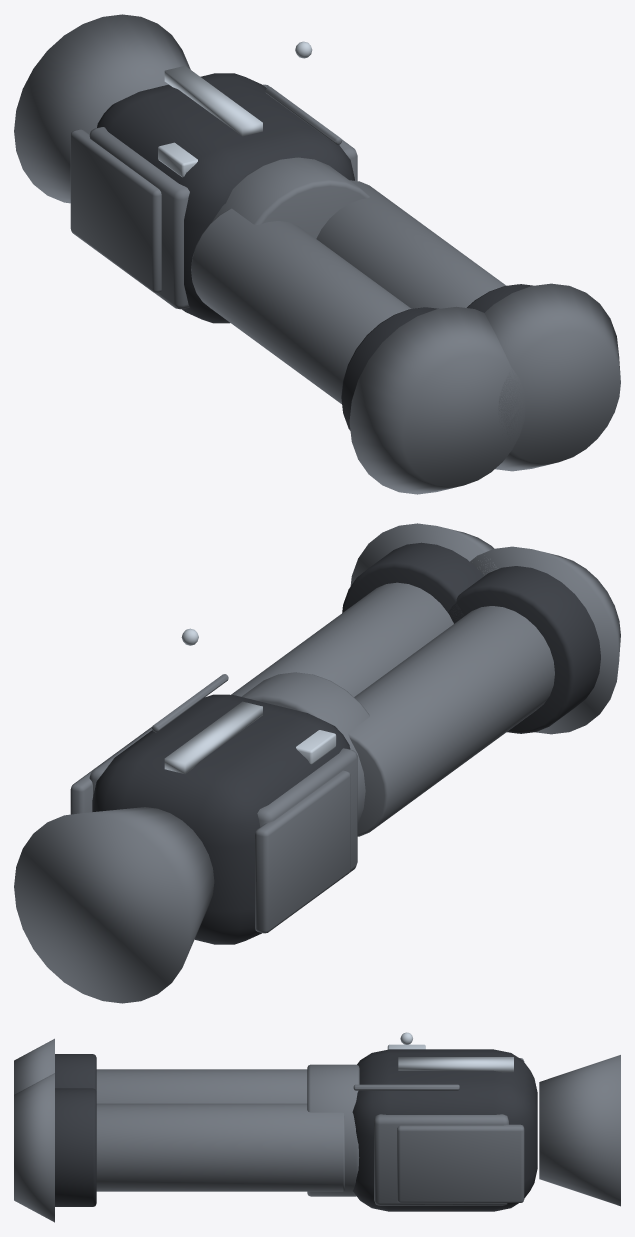
Rendered from weapon_drone_fire_salvo.glb.
3 views of the same model, one above another, from view 1: azimuth 30°, elevation 25°; view 2: azimuth 150°, elevation 25°; view 3: azimuth 270°, elevation 25° (orthographic). The views are drawn at different scales.
Visible parts, largest first — view 1: weapon_drone_fire_salvo; view 2: weapon_drone_fire_salvo; view 3: weapon_drone_fire_salvo.
Boxes of the visible parts, box(x1,y1,x2,y2) form: weapon_drone_fire_salvo: box(14, 14, 620, 494); weapon_drone_fire_salvo: box(14, 523, 620, 1003); weapon_drone_fire_salvo: box(14, 1032, 620, 1222).
Size of the model in its own units: 0.7911 by 0.7068 by 2.08.
